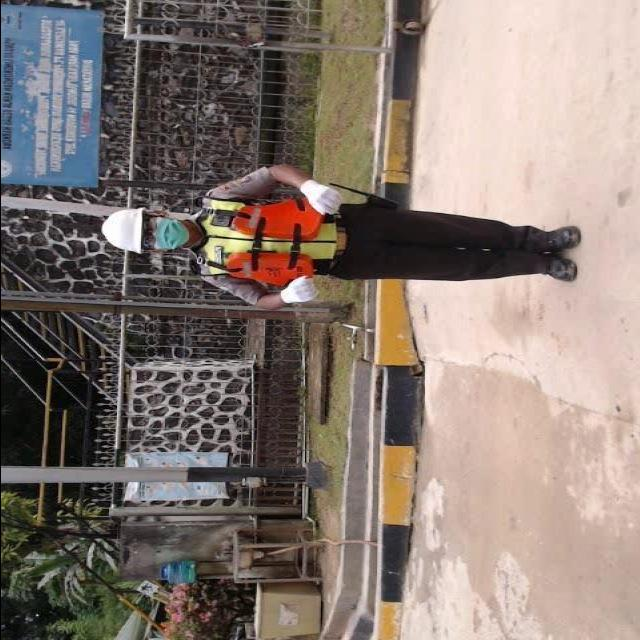helmet: (90, 202, 146, 258)
jacket: (190, 180, 348, 294)
